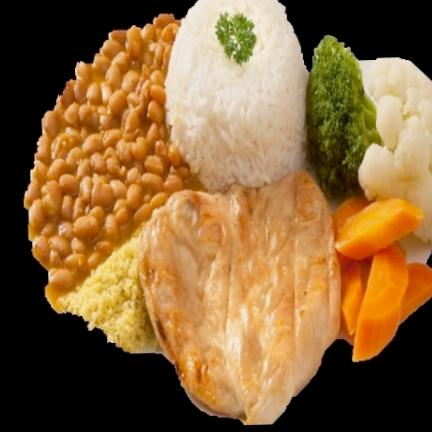beans: (26, 21, 205, 309)
broccoli: (301, 38, 377, 213)
carrot: (334, 197, 432, 364)
cauliflower: (358, 59, 432, 264)
chicken: (137, 168, 339, 425)
rice: (168, 0, 308, 191)
